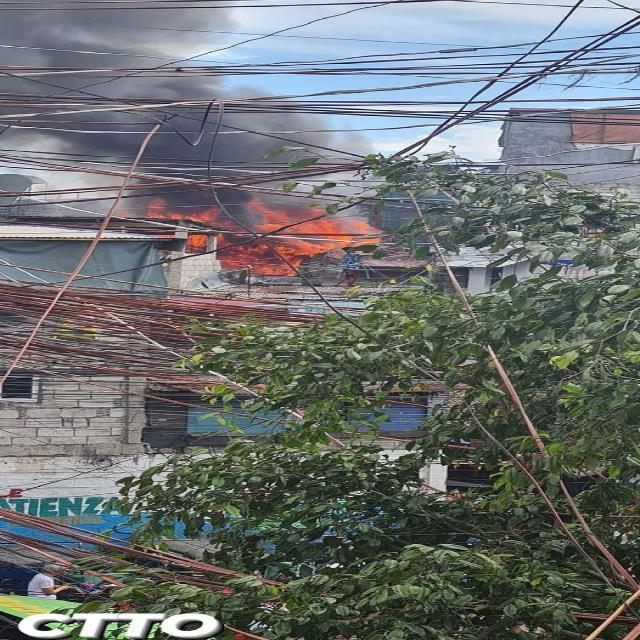Fire: (133, 197, 380, 274)
Smoke: (0, 8, 326, 221)
